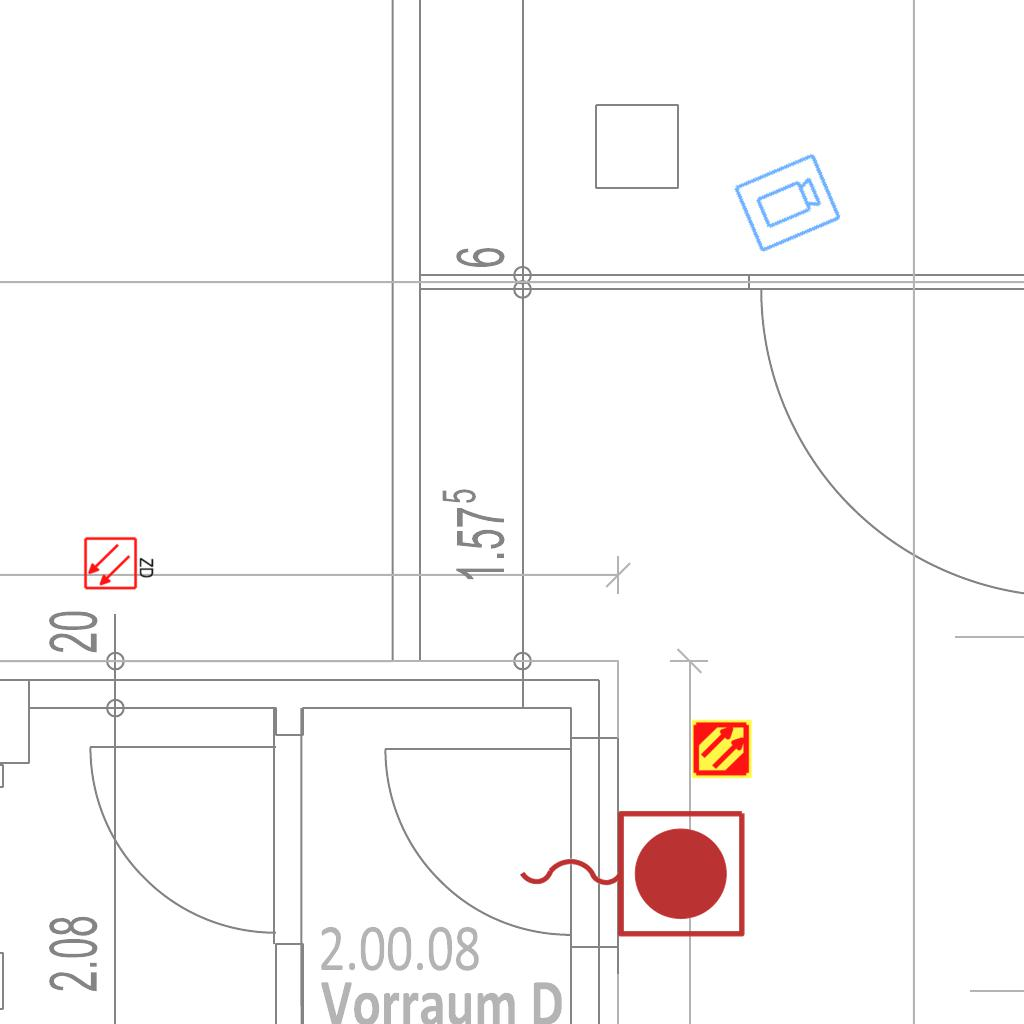ASR_Ansaugrauchmelder: (691, 718, 753, 780)
KFO_Kamera_mit_Festobjektiv: (730, 150, 845, 257)
ZD_Melder_in_Zwischendecke_mit_Revisionsoeffnung_mind_40_x_40_cm: (83, 534, 157, 591)
Zugtaster: (509, 800, 753, 944)
